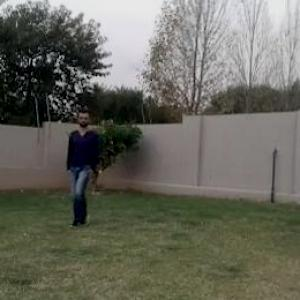follow: (67, 106, 97, 225)
